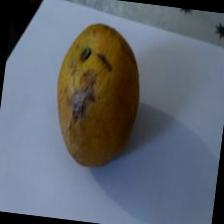Orange Rotten: (40, 9, 154, 176)
